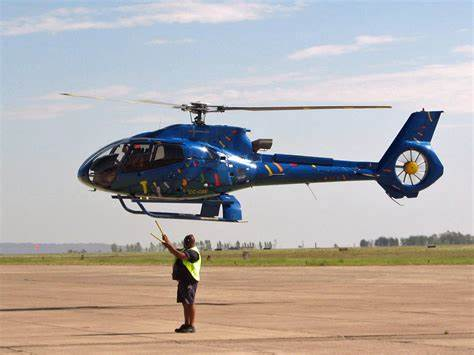Aeronef_commercial: (49, 80, 453, 235)
